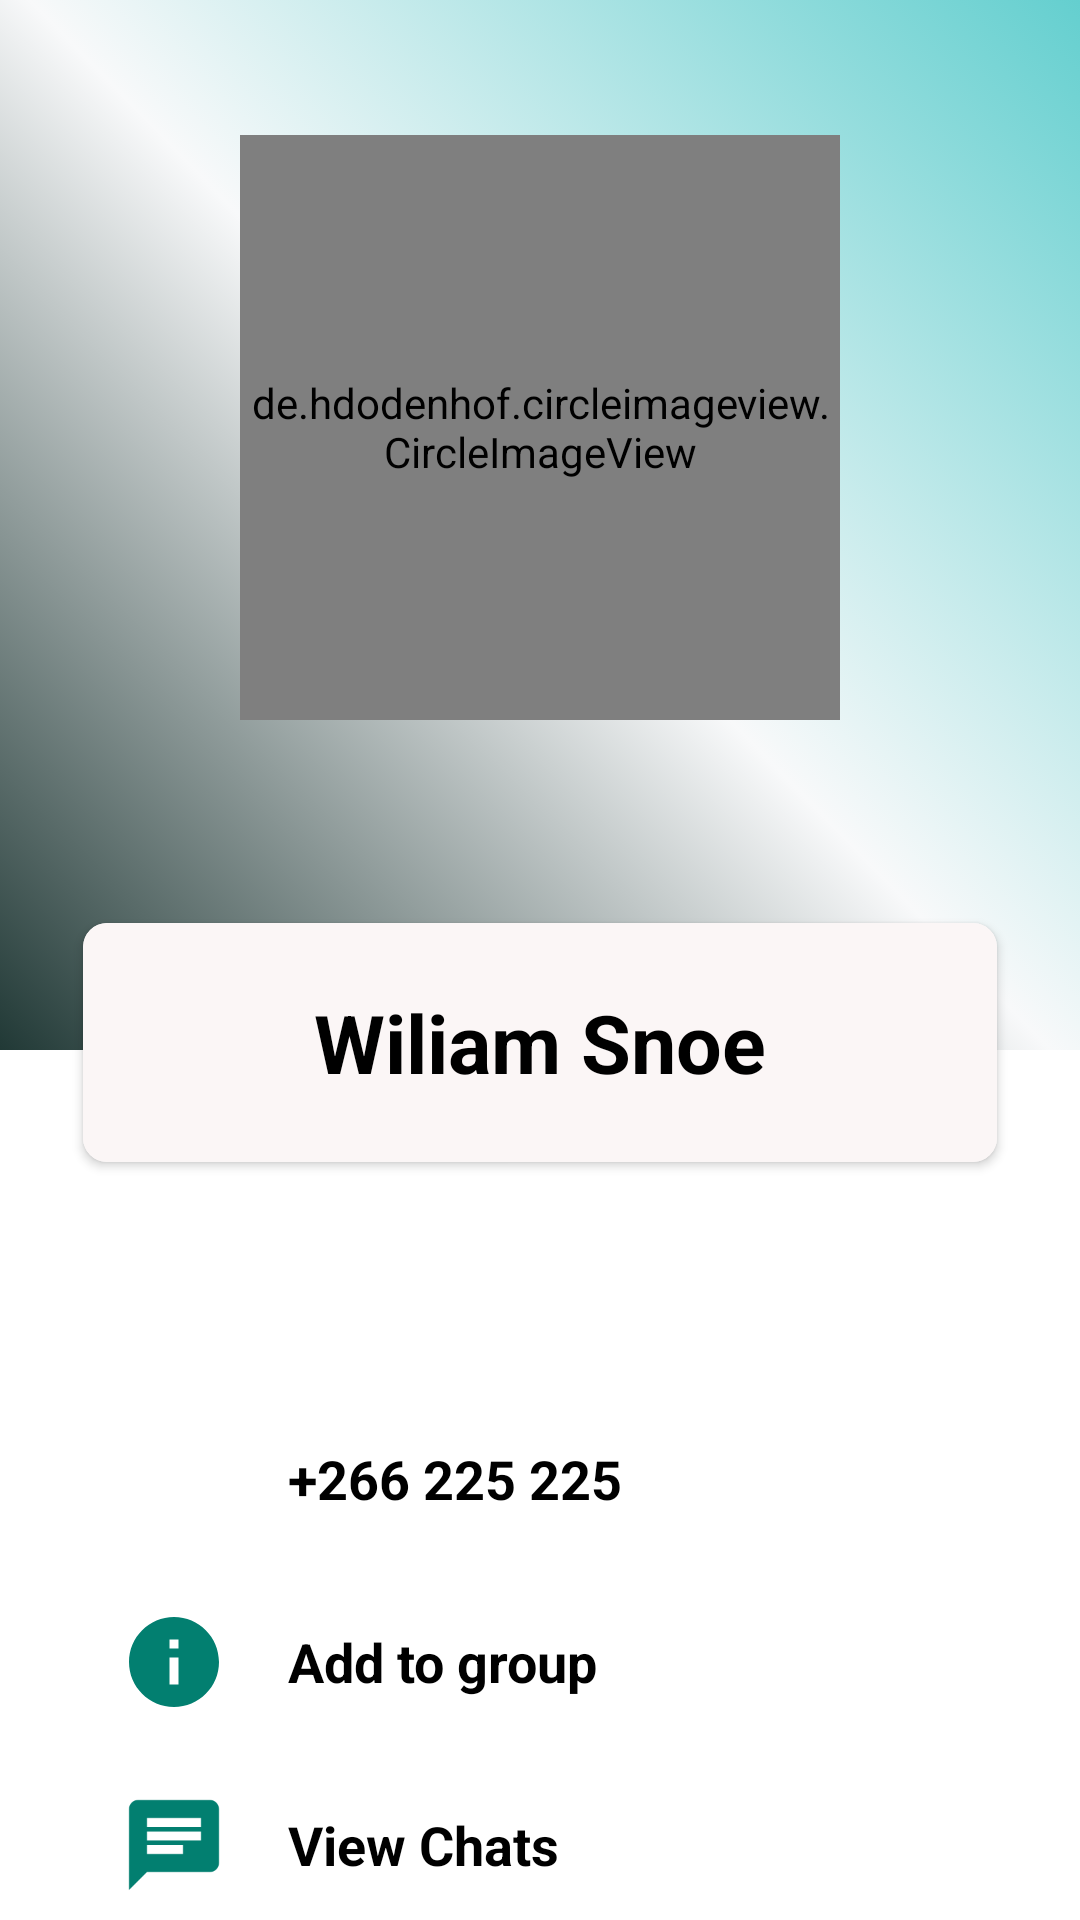

Where icons sit on this 1080 × 1920 app screen, as (x1, y1, x2, y2):
info: (129, 1617, 219, 1707)
